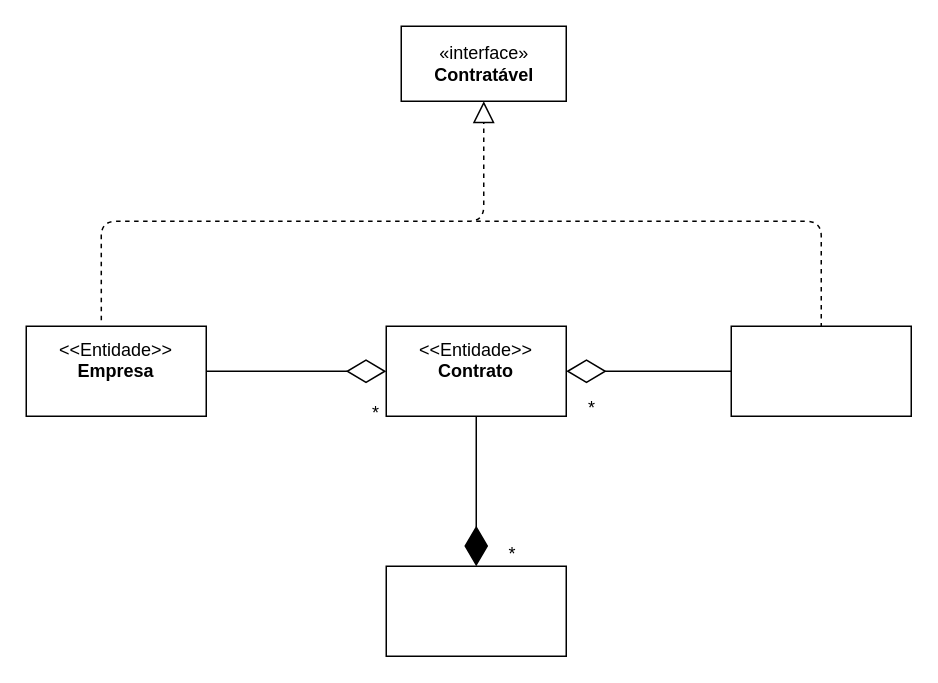
Image size: 938x683. Some labels were removed from this diagram. The box of each missing label's shape, as (x1, y1, x2, y2) in pixels:
<<Entidade>> Funcionario: (730, 325, 911, 416)
Clausulas: (385, 565, 566, 656)
